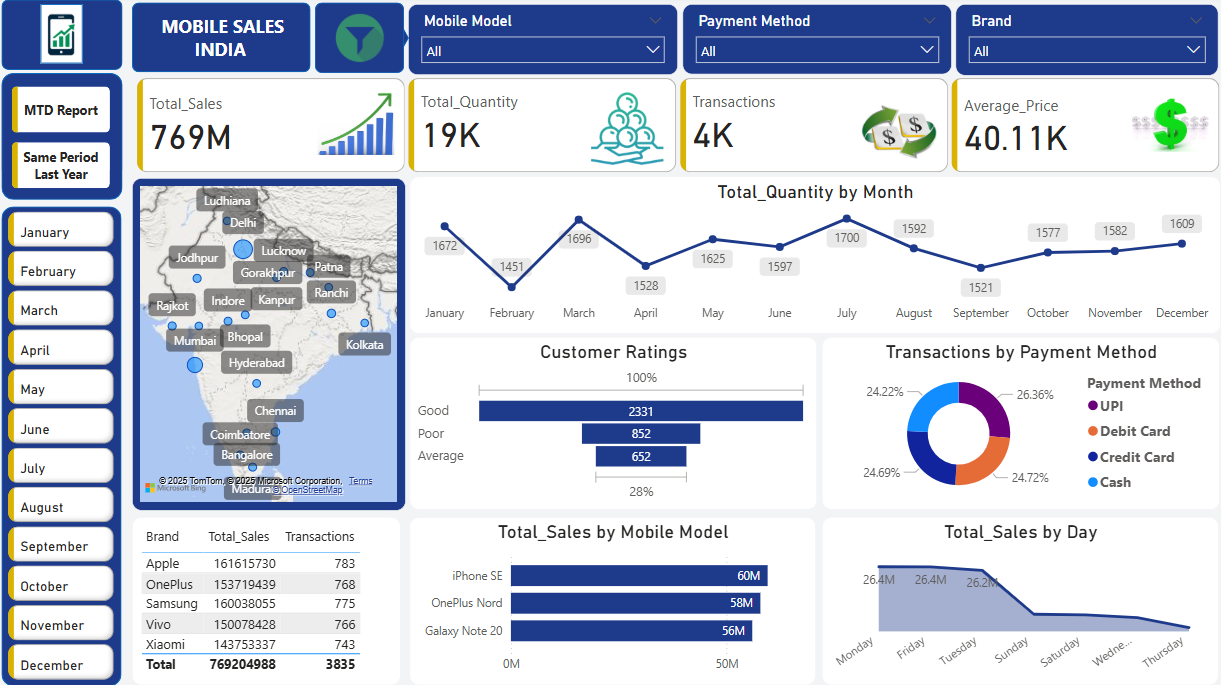

What the dashboard file says about the page in this screenshot:
{"tool":"powerbi","page":{"name":"Dashboard","canvas":[1280,720],"ordinal":0},"visuals":[{"type":"shape","box":[4,4,126,73.3],"z":0},{"type":"shape","box":[44.7,8.7,44,62],"z":1000},{"type":"image","box":[15.3,0,102.7,82],"z":2000},{"type":"shape","box":[4,82,126,132],"z":3000},{"type":"shape","box":[5,220,125,500],"z":4000},{"type":"advancedSlicerVisual","fields":{"Values":["Custom_Calender.Date.Variation.Date Hierarchy.Month"]},"box":[6.3,220.4,120.4,500.2],"z":5000},{"type":"cardVisual","fields":{"Data":["Mobile_Sales.Total_Sales","Mobile_Sales.Total_Qty","Mobile_Sales.Transactions","Mobile_Sales.Avg_Price"]},"box":[140,82,1140,108],"z":6000},{"type":"slicer","title":"hello","fields":{"Values":["Mobile_Sales.Mobile Model"]},"box":[428.9,8.9,281.1,73.7],"z":7000},{"type":"slicer","title":"hello","fields":{"Values":["Mobile_Sales.Brand"]},"box":[999.3,8.7,274,74.7],"z":8000},{"type":"slicer","title":"hello","fields":{"Values":["Mobile_Sales.Payment Method"]},"box":[714,8.7,280.7,73.3],"z":9000},{"type":"shape","box":[412.4,30,16.5,30],"z":10000},{"type":"shape","box":[331.4,8.6,92.9,73.6],"z":11000},{"type":"image","box":[340.7,5,74.3,80],"z":12000},{"type":"shape","box":[140.7,8,186,72.7],"z":13000},{"type":"textbox","box":[151,14,167,61],"z":14000},{"type":"map","fields":{"Category":["Mobile_Sales.City"],"Size":["Mobile_Sales.Total_Sales"]},"box":[140,190,285,346.7],"z":15000},{"type":"lineChart","fields":{"Category":["Custom_Calender.Date.Variation.Date Hierarchy.Month"],"Y":["Mobile_Sales.Total_Quantity"]},"box":[429.7,189.6,845.1,164.3],"z":16000},{"type":"funnel","title":"Customer Ratings","fields":{"Category":["Mobile_Sales.Rating Status"],"Y":["CountNonNull(Mobile_Sales.Customer Ratings)"]},"box":[430,356.7,424.4,180],"z":17000},{"type":"donutChart","fields":{"Category":["Mobile_Sales.Payment Method"],"Y":["Mobile_Sales.Transactions"]},"box":[858.9,356.7,414.4,180],"z":18000},{"type":"clusteredBarChart","fields":{"Y":["Mobile_Sales.Total_Sales"],"Category":["Mobile_Sales.Mobile Model"]},"box":[430,544.4,423.3,175.6],"z":19000},{"type":"stackedAreaChart","fields":{"Y":["Mobile_Sales.Total_Sales"],"Category":["Custom_Calender.Day"]},"box":[860,544.4,413.3,175.6],"z":20000},{"type":"tableEx","fields":{"Values":["Mobile_Sales.Brand","Mobile_Sales.Total_Sales","Mobile_Sales.Transactions"]},"box":[140,544.4,280,175.6],"z":21000},{"type":"pageNavigator","box":[15.8,94.8,102.7,107.4],"z":22000}]}

Visuals, with their boxes in screenshot pixels (x1, y1, x2, y2), scaled from the page's 1280x720 canvas onto the 1221x685 screenshot:
shape: {"left": 4, "top": 4, "right": 124, "bottom": 74}
shape: {"left": 43, "top": 8, "right": 85, "bottom": 67}
image: {"left": 15, "top": 0, "right": 113, "bottom": 78}
shape: {"left": 4, "top": 78, "right": 124, "bottom": 204}
shape: {"left": 5, "top": 209, "right": 124, "bottom": 684}
advancedSlicerVisual - Custom_Calender.Date.Variation.Date Hierarchy.Month: {"left": 6, "top": 210, "right": 121, "bottom": 684}
cardVisual - Mobile_Sales.Total_Sales x Mobile_Sales.Total_Qty: {"left": 134, "top": 78, "right": 1220, "bottom": 181}
"hello" slicer: {"left": 409, "top": 8, "right": 677, "bottom": 79}
"hello" slicer: {"left": 953, "top": 8, "right": 1215, "bottom": 79}
"hello" slicer: {"left": 681, "top": 8, "right": 949, "bottom": 78}
shape: {"left": 393, "top": 29, "right": 409, "bottom": 57}
shape: {"left": 316, "top": 8, "right": 405, "bottom": 78}
image: {"left": 325, "top": 5, "right": 396, "bottom": 81}
shape: {"left": 134, "top": 8, "right": 312, "bottom": 77}
textbox: {"left": 144, "top": 13, "right": 303, "bottom": 71}
map - Mobile_Sales.City x Mobile_Sales.Total_Sales: {"left": 134, "top": 181, "right": 405, "bottom": 511}
lineChart - Custom_Calender.Date.Variation.Date Hierarchy.Month x Mobile_Sales.Total_Quantity: {"left": 410, "top": 180, "right": 1216, "bottom": 337}
"Customer Ratings" funnel: {"left": 410, "top": 339, "right": 815, "bottom": 511}
donutChart - Mobile_Sales.Payment Method x Mobile_Sales.Transactions: {"left": 819, "top": 339, "right": 1215, "bottom": 511}
clusteredBarChart - Mobile_Sales.Total_Sales x Mobile_Sales.Mobile Model: {"left": 410, "top": 518, "right": 814, "bottom": 684}
stackedAreaChart - Mobile_Sales.Total_Sales x Custom_Calender.Day: {"left": 820, "top": 518, "right": 1215, "bottom": 684}
tableEx - Mobile_Sales.Brand x Mobile_Sales.Total_Sales: {"left": 134, "top": 518, "right": 401, "bottom": 684}
pageNavigator: {"left": 15, "top": 90, "right": 113, "bottom": 192}
